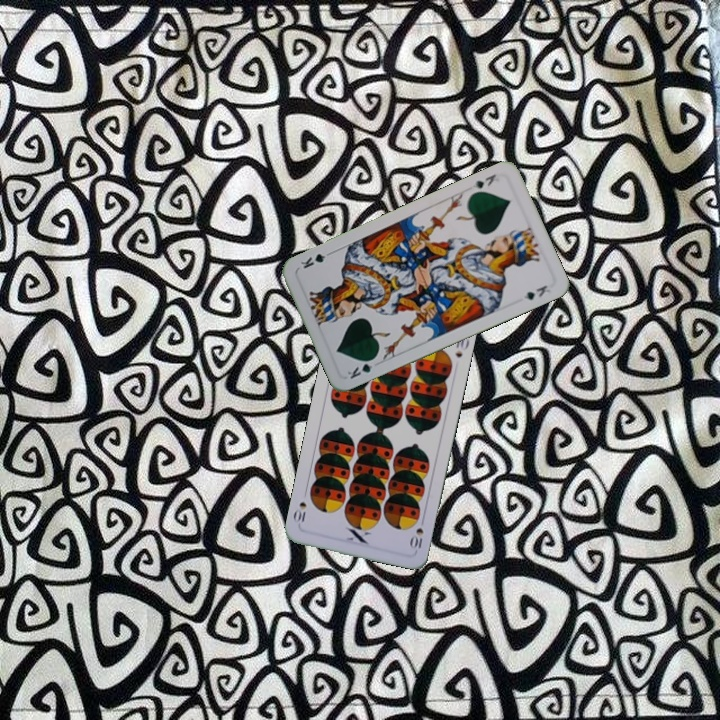GK: (343, 353, 379, 382), (469, 170, 499, 191)
S10: (407, 524, 426, 552)
